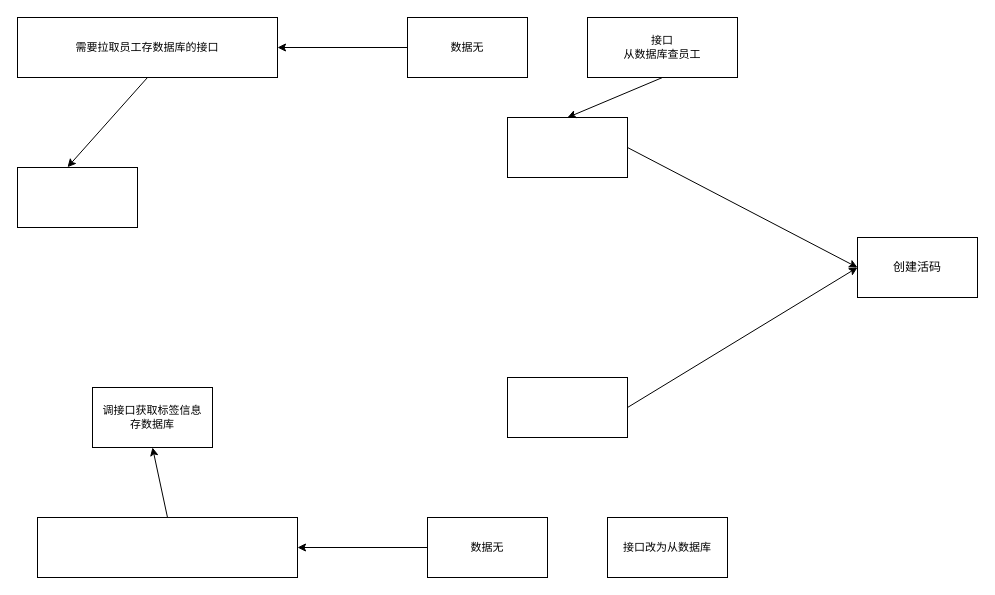
Some shapes in this 995 by 595 pixel diagram are drawn without their labels. Each missing label, with the box of its shape:
调接口获取员工id列表 调接口获取员工信息 存数据库: (16, 166, 138, 228)
选企业员工: (506, 116, 628, 178)
选标签: (506, 376, 628, 438)
需要拉取企业标签存数据库的接口: (36, 516, 298, 578)
